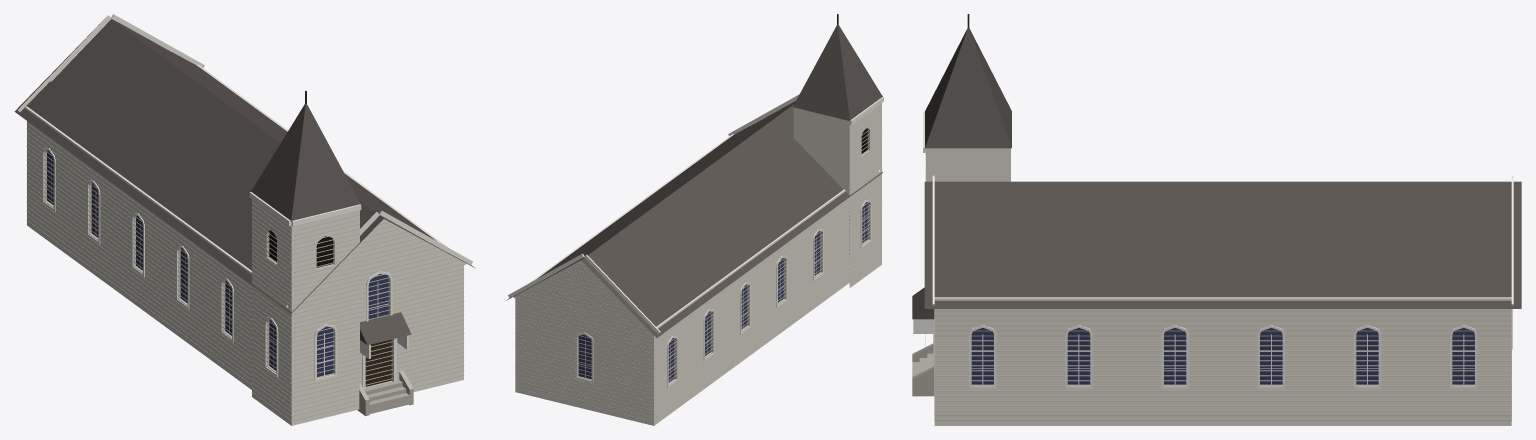
File: ch-collins-street-missionary-baptist-1913.glb
The picture shows the model from 3 angles, left to right: view 1: azimuth 30°, elevation 25°; view 2: azimuth 150°, elevation 25°; view 3: azimuth 270°, elevation 25°; orthographic projection. The views are drawn at different scales.
Parts seen in each view (by area): view 1: ch_brick, ch_roof, ch_brick2, ch_trim, ch_roof2, ch_stain, ch_conc, ch_door, ch_shadow; view 2: ch_brick, ch_roof, ch_brick2, ch_trim, ch_roof2, ch_stain; view 3: ch_roof, ch_brick, ch_brick2, ch_roof2, ch_trim, ch_stain, ch_conc.
Boxes of the visible parts, <box> form: ch_brick: <box>27,121,463,425</box>; ch_roof: <box>14,17,475,313</box>; ch_brick2: <box>26,49,464,421</box>; ch_trim: <box>18,14,472,388</box>; ch_roof2: <box>251,104,411,345</box>; ch_stain: <box>47,150,388,376</box>; ch_conc: <box>357,370,413,416</box>; ch_door: <box>365,339,391,386</box>; ch_shadow: <box>269,229,332,267</box>; ch_brick: <box>515,103,881,425</box>; ch_roof: <box>506,101,882,337</box>; ch_brick2: <box>515,105,882,422</box>; ch_trim: <box>508,94,883,387</box>; ch_roof2: <box>793,25,882,120</box>; ch_stain: <box>578,202,867,382</box>; ch_roof: <box>924,181,1521,308</box>; ch_brick: <box>926,148,1511,425</box>; ch_brick2: <box>925,153,1511,421</box>; ch_roof2: <box>912,28,1011,319</box>; ch_trim: <box>913,111,1513,388</box>; ch_stain: <box>971,327,1474,384</box>; ch_conc: <box>912,343,934,396</box>.
Size of the model in its own units: 9.32 by 14.95 by 24.36.
